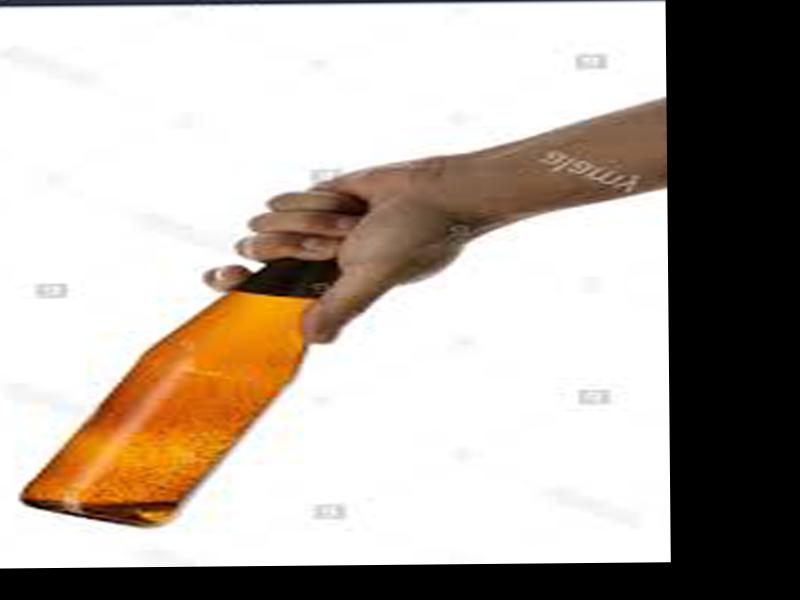Beer: (17, 200, 363, 532)
